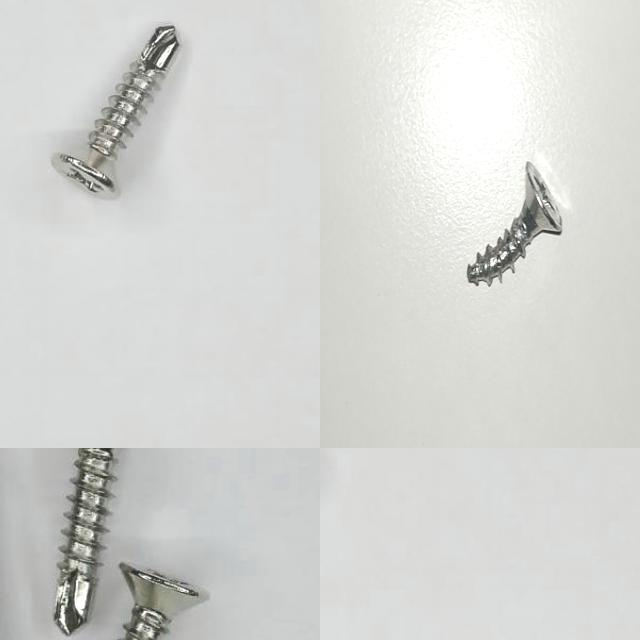Screw: (51, 25, 177, 196), (467, 161, 562, 286), (54, 448, 113, 635), (119, 563, 208, 640)
